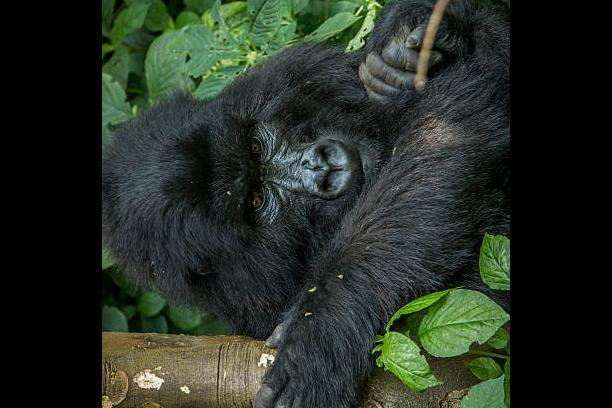goriile_montagne: (105, 0, 510, 408)
